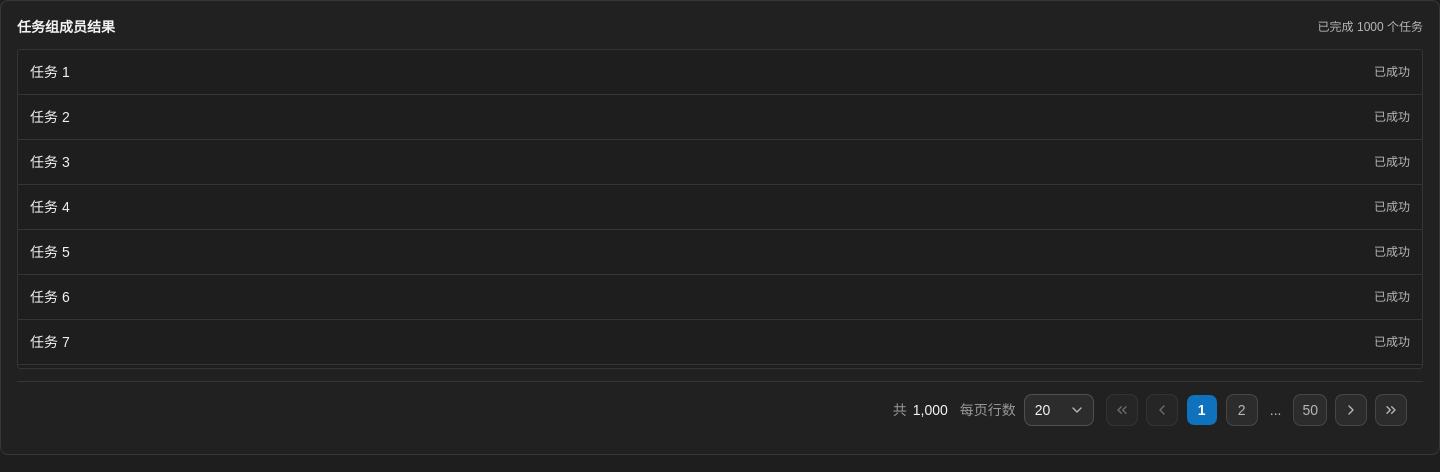
Test: 任务组大结果默认只挂载20条成员，翻页后可读取下一页
Check: the text "任务 21" is not shown
Click the button named "转到下一页" at (1351, 410), box x1=1335 y1=394 x2=1367 y2=426
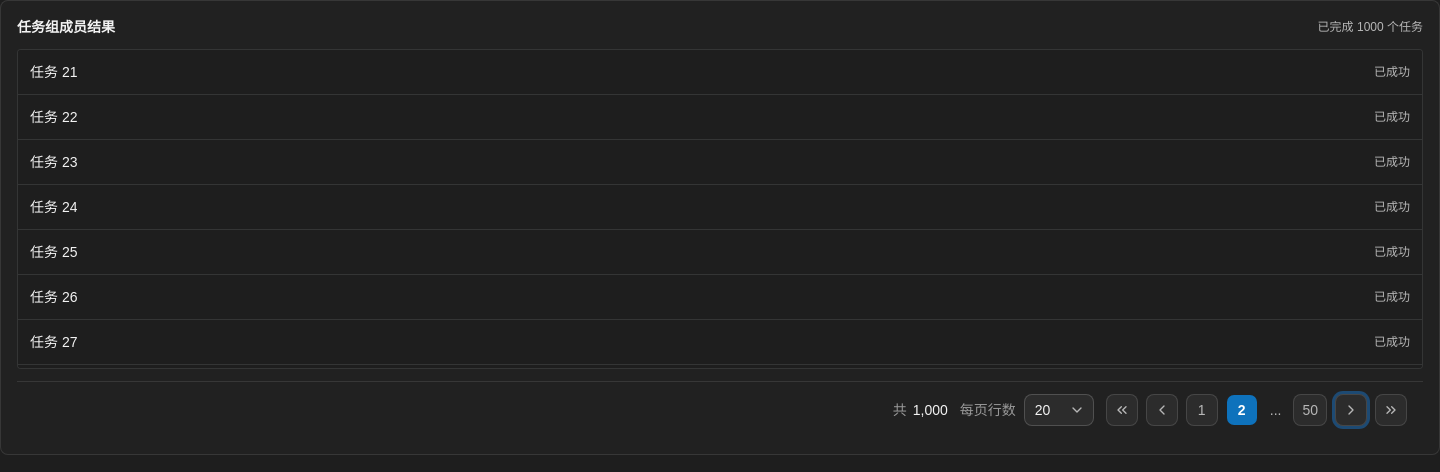
Check: the text "任务 21" is shown, box x1=30 y1=62 x2=78 y2=82
